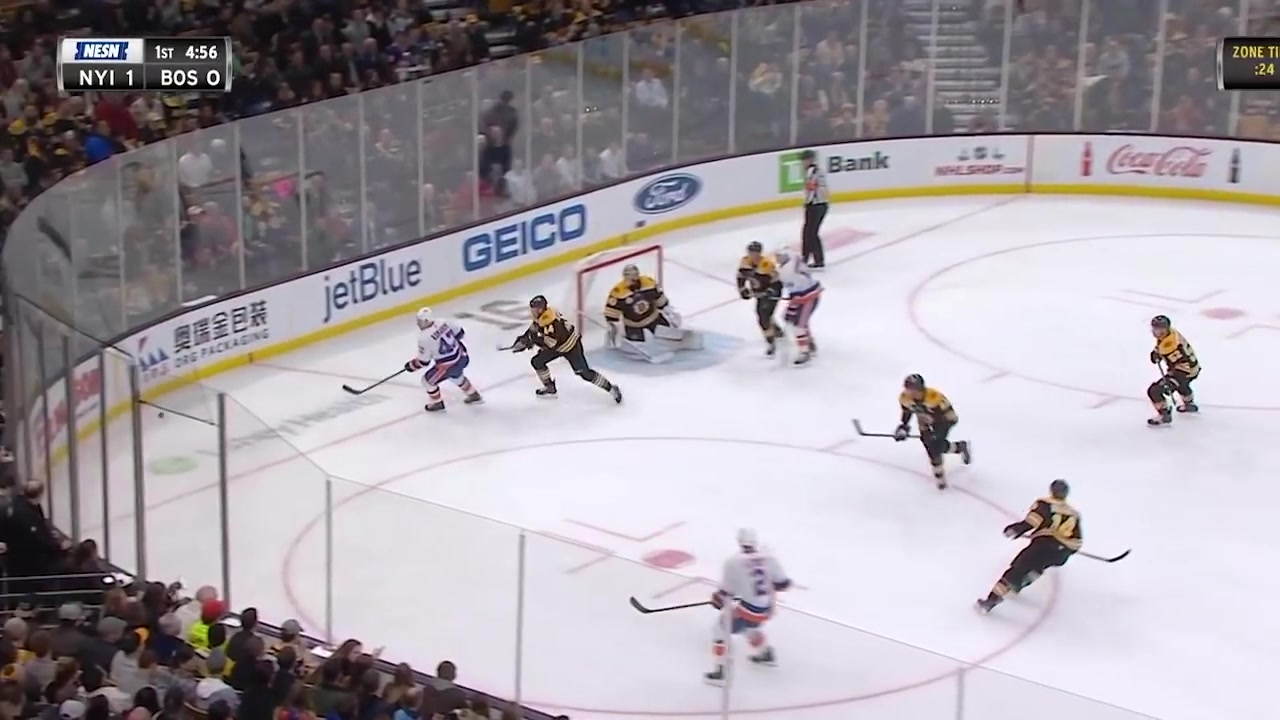Geico: (456, 187, 595, 281)
